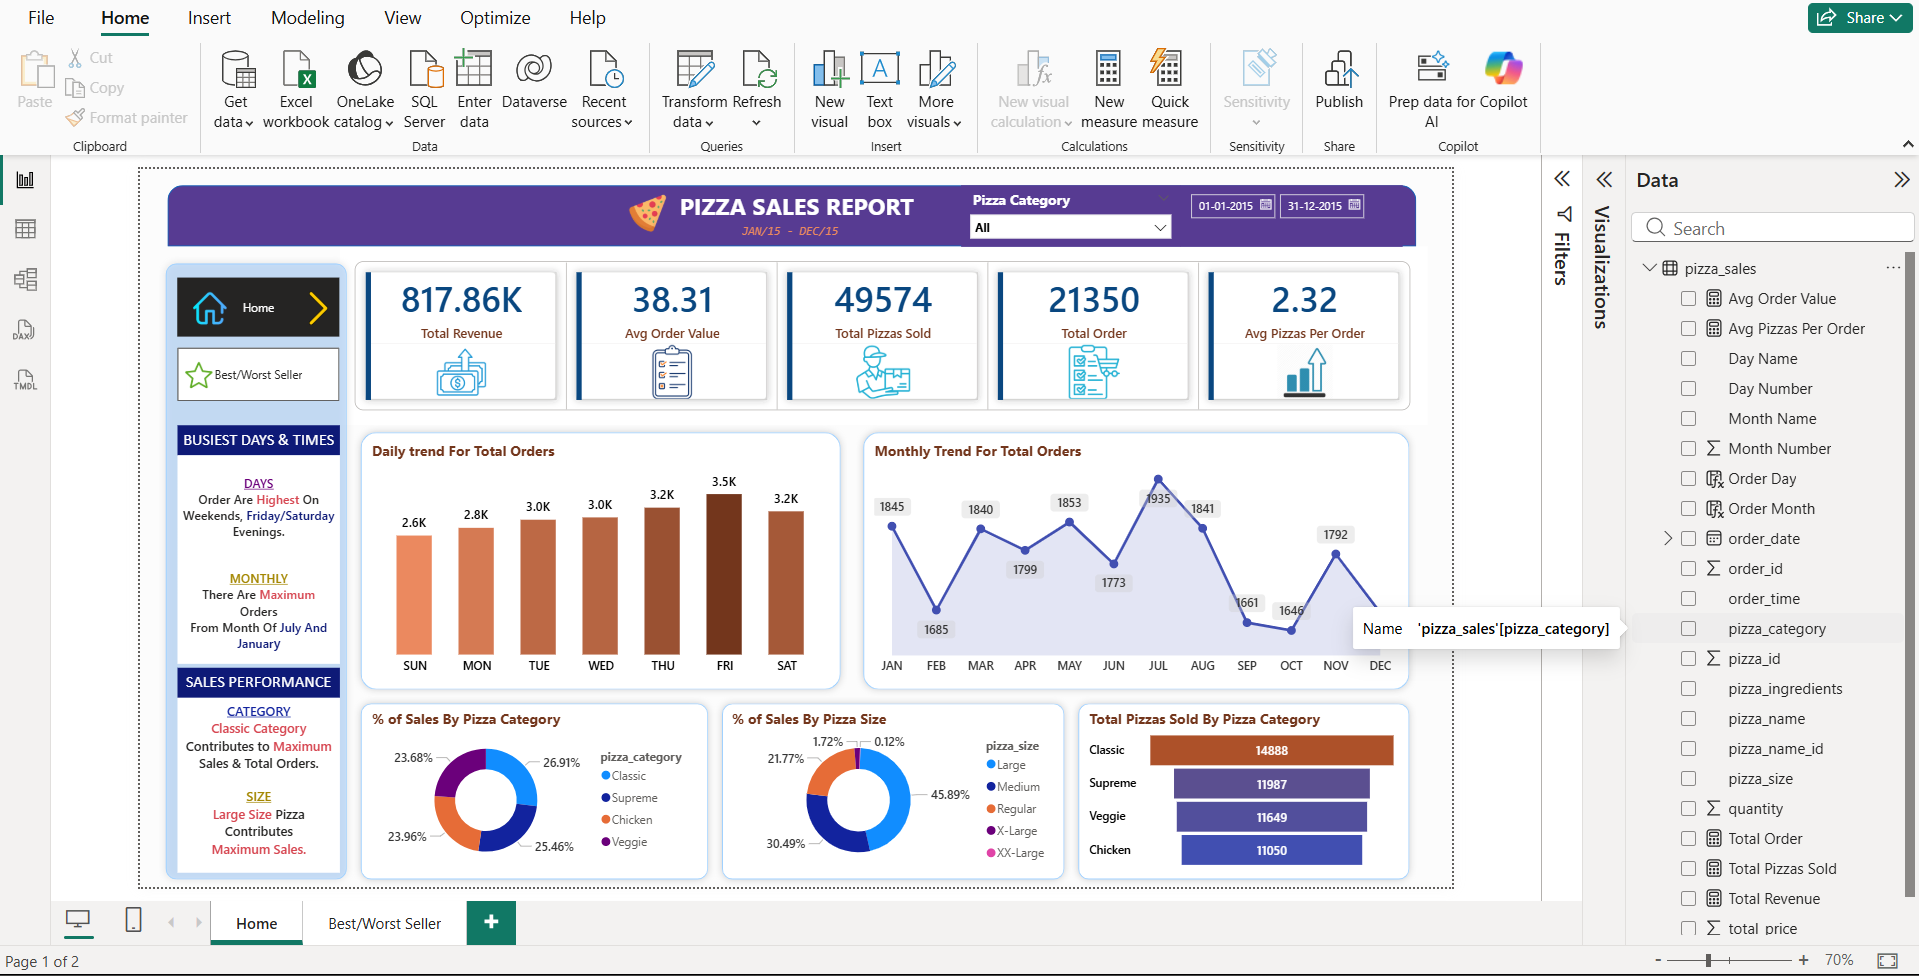

The dashboard page shown, as its layout file describes it:
{"tool":"powerbi","page":{"name":"Home","canvas":[1500,820],"ordinal":0},"visuals":[{"type":"cardVisual","fields":{"Data":["pizza_sales.Total Revenue","pizza_sales.Avg Order Value","pizza_sales.Total Pizzas Sold","pizza_sales.Total Order","pizza_sales.Avg Pizzas Per Order"]},"box":[228.6,88.6,1242.9,204.3],"z":0},{"type":"shape","box":[31.4,18.6,1427.1,70],"z":1000},{"type":"textbox","box":[611.4,18.6,278.6,45.7],"z":2000},{"type":"textbox","box":[682.9,55.7,125.7,32.9],"z":3000},{"type":"image","box":[548.6,28.6,62.9,44.3],"z":4000},{"type":"shape","box":[244.3,292.9,564.3,310],"z":5000},{"type":"columnChart","title":"Daily trend For Total Orders","fields":{"Category":["pizza_sales.Order Day"],"Y":["pizza_sales.Total Order"]},"box":[260,310,534.3,277.1],"z":6000},{"type":"shape","box":[818.6,292.9,640,310],"z":7000},{"type":"areaChart","title":"Monthly Trend For Total Orders ","fields":{"Category":["pizza_sales.Order Month"],"Y":["pizza_sales.Total Order"]},"box":[834.3,310,608.6,277.1],"z":8000},{"type":"shape","box":[21.4,100,222.9,720],"z":9000},{"type":"shape","box":[244.3,602.9,412.9,217.1],"z":10000},{"type":"shape","box":[657.1,602.9,407.1,217.1],"z":11000},{"type":"shape","box":[1064.3,602.9,394.3,217.1],"z":12000},{"type":"donutChart","title":"% of Sales By Pizza Category","fields":{"Category":["pizza_sales.pizza_category"],"Y":["pizza_sales.Total Revenue"]},"box":[260,617.1,380,187.1],"z":13000},{"type":"donutChart","title":"% of Sales By Pizza Size","fields":{"Y":["pizza_sales.Total Revenue"],"Category":["pizza_sales.pizza_size"]},"box":[671.4,617.1,380,187.1],"z":14000},{"type":"funnel","title":"Total Pizzas Sold By Pizza Category","fields":{"Category":["pizza_sales.pizza_category"],"Y":["pizza_sales.Total Pizzas Sold"]},"box":[1080,617.1,362.9,187.1],"z":15000},{"type":"textbox","box":[42.9,292.9,185.7,34.3],"z":16000},{"type":"textbox","box":[42.9,327.1,185.7,238.6],"z":17000},{"type":"textbox","box":[42.9,570,185.7,34.3],"z":18000},{"type":"textbox","box":[42.9,604.3,185.7,200],"z":19000},{"type":"slicer","fields":{"Values":["pizza_sales.pizza_category"]},"box":[938.6,18.6,250,70],"z":20000},{"type":"slicer","fields":{"Values":["pizza_sales.order_date"]},"box":[1188.6,18.6,254.3,70],"z":21000},{"type":"pageNavigator","box":[42.9,124.3,185.7,67.1],"z":22000},{"type":"pageNavigator","box":[42.9,204.3,185.7,61.4],"z":23000},{"type":"image","box":[180,140,48.6,38.6],"z":24000},{"type":"image","box":[54.3,140,51.4,38.6],"z":25000},{"type":"image","box":[42.9,220,48.6,31.4],"z":26000}]}

Visuals, with their boxes on the page's 1500x820 design canvas (x1, y1, x2, y2). These are canvas units, not pixel positions in the 1919x976 screenshot, which may show the page scaled, cropped or inside an application window:
cardVisual - pizza_sales.Total Revenue x pizza_sales.Avg Order Value: <region>229, 89, 1472, 293</region>
shape: <region>31, 19, 1458, 89</region>
textbox: <region>611, 19, 890, 64</region>
textbox: <region>683, 56, 809, 89</region>
image: <region>549, 29, 612, 73</region>
shape: <region>244, 293, 809, 603</region>
"Daily trend For Total Orders" columnChart: <region>260, 310, 794, 587</region>
shape: <region>819, 293, 1459, 603</region>
"Monthly Trend For Total Orders " areaChart: <region>834, 310, 1443, 587</region>
shape: <region>21, 100, 244, 820</region>
shape: <region>244, 603, 657, 820</region>
shape: <region>657, 603, 1064, 820</region>
shape: <region>1064, 603, 1459, 820</region>
"% of Sales By Pizza Category" donutChart: <region>260, 617, 640, 804</region>
"% of Sales By Pizza Size" donutChart: <region>671, 617, 1051, 804</region>
"Total Pizzas Sold By Pizza Category" funnel: <region>1080, 617, 1443, 804</region>
textbox: <region>43, 293, 229, 327</region>
textbox: <region>43, 327, 229, 566</region>
textbox: <region>43, 570, 229, 604</region>
textbox: <region>43, 604, 229, 804</region>
slicer - pizza_sales.pizza_category: <region>939, 19, 1189, 89</region>
slicer - pizza_sales.order_date: <region>1189, 19, 1443, 89</region>
pageNavigator: <region>43, 124, 229, 191</region>
pageNavigator: <region>43, 204, 229, 266</region>
image: <region>180, 140, 229, 179</region>
image: <region>54, 140, 106, 179</region>
image: <region>43, 220, 92, 251</region>
